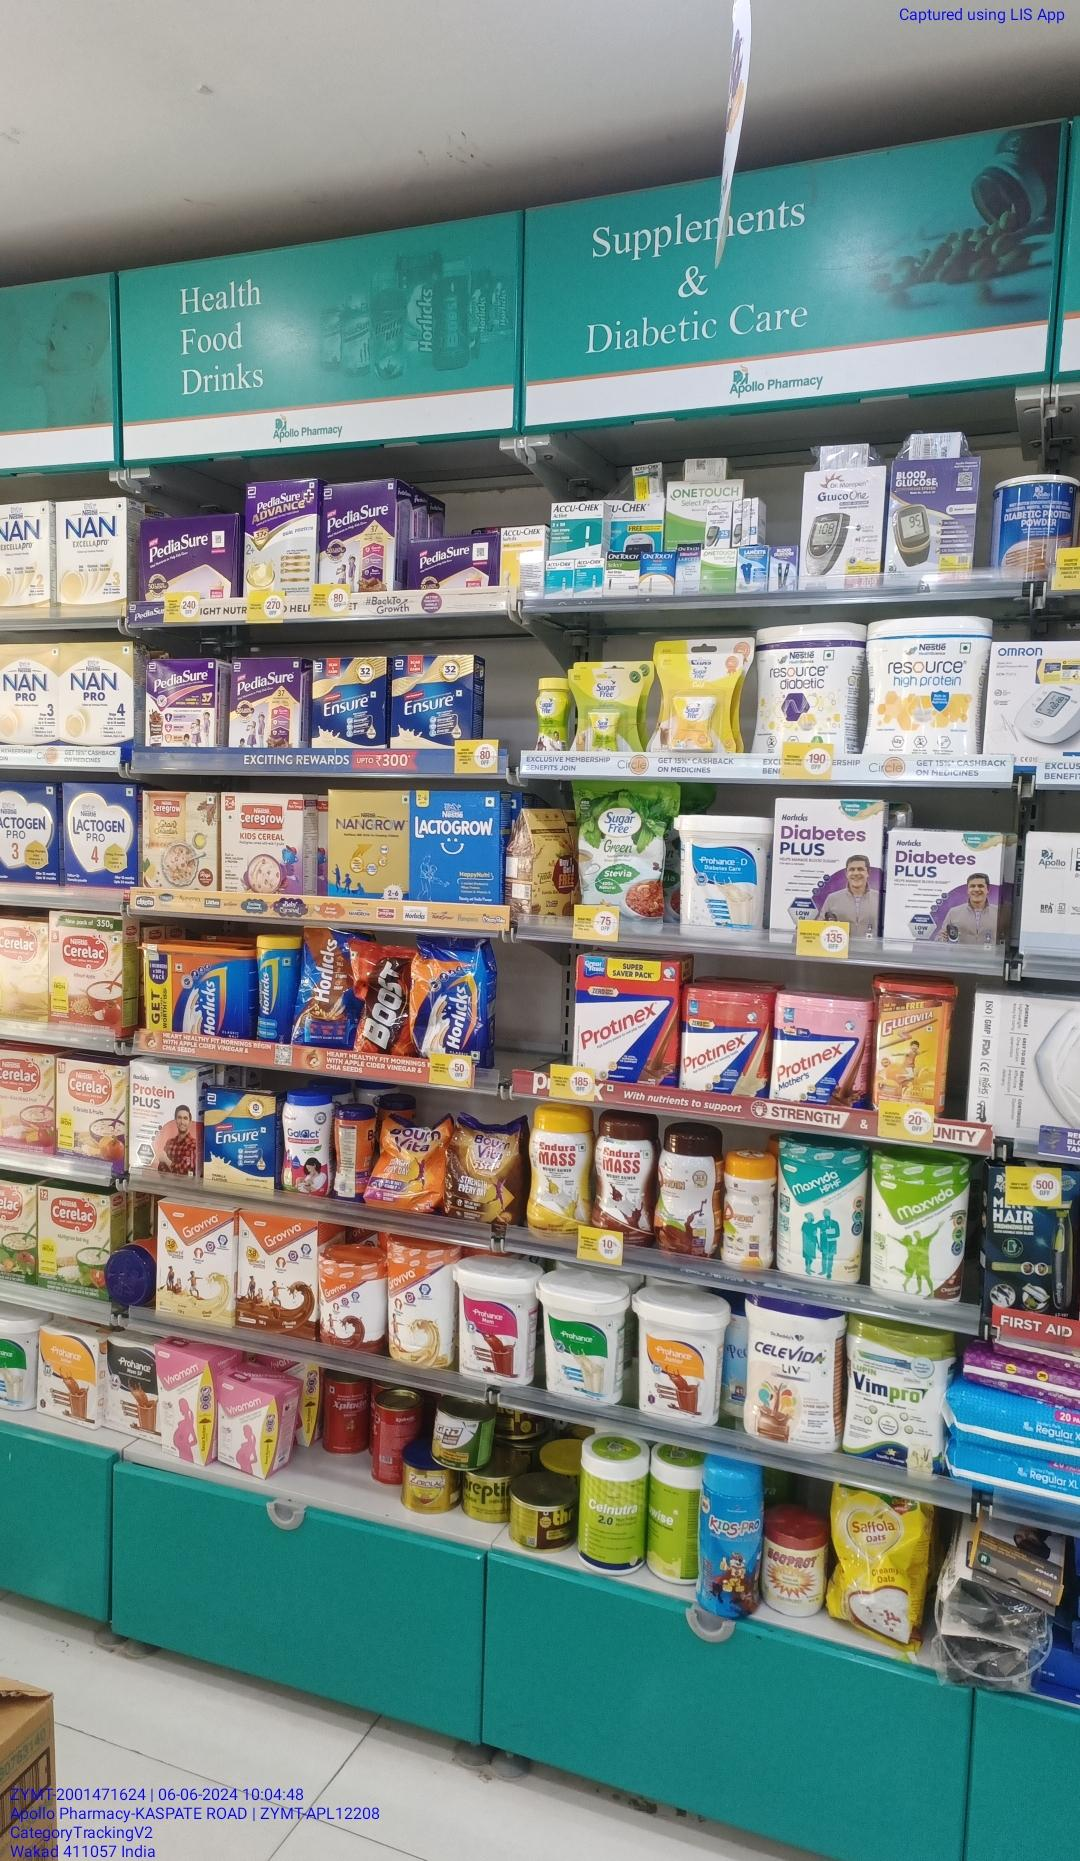BOURN_VITA_500_G_POUCH: (366, 1112, 437, 1213)
BOURN_VITA_FIVE_STAR_MAGIC_500_G_POUCH: (445, 1112, 521, 1222)
ENSURE_VANILLA_400_G_PACK: (203, 1091, 275, 1190), (393, 654, 473, 740), (312, 661, 386, 748)
HORLICK_CHOCOLATE_750_G_POUCH: (296, 929, 356, 1045)
HORLICK_CLASSIC_MALT_750_G_POUCH: (414, 946, 487, 1055)
HORLICK_MALT_1_KG_CONTAINER: (143, 943, 251, 1037)
PEDIASURE_CHOCOLATE_500_G_PACK: (318, 482, 391, 591), (231, 659, 301, 749)
PROTINEX_VANILLA_400_G_JAR: (683, 988, 766, 1092)
